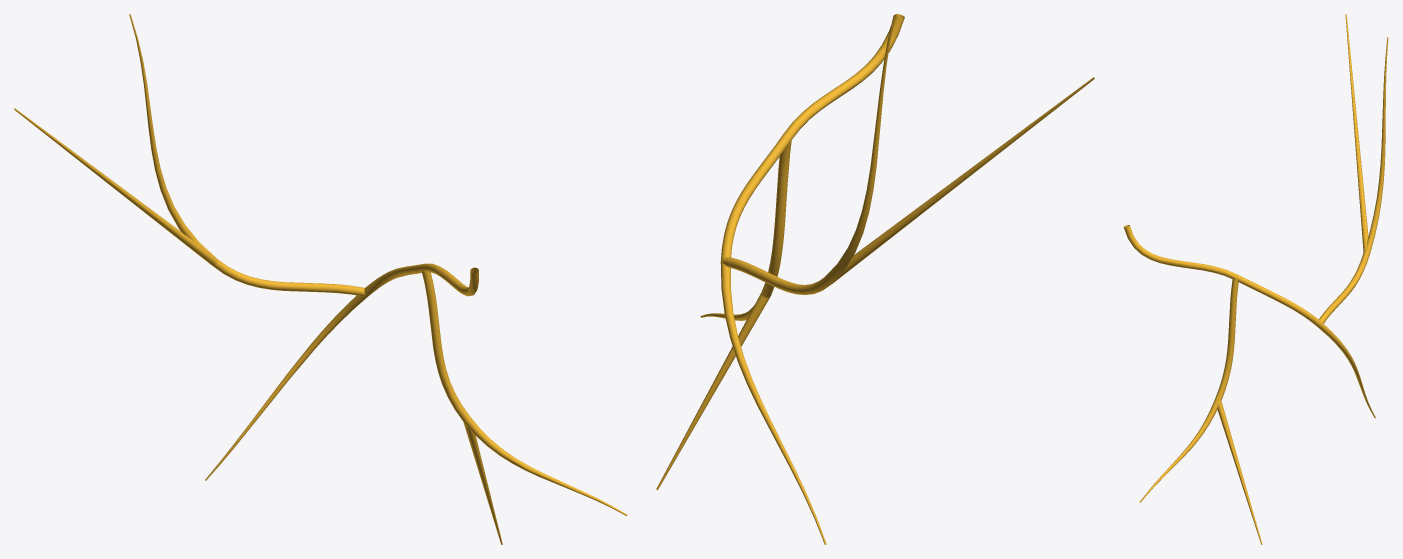
The model's file is nervoso-muscular-branches-of-radial-nerve-l.glb.
3 views of the same model, side by side, from view 1: azimuth 30°, elevation 25°; view 2: azimuth 150°, elevation 25°; view 3: azimuth 270°, elevation 25° (orthographic). The views are drawn at different scales.
Parts seen in each view (by area): view 1: Muscular branches of radial nerve.l; view 2: Muscular branches of radial nerve.l; view 3: Muscular branches of radial nerve.l.
Boxes of the visible parts, x1,y1,x2,y2 form: Muscular branches of radial nerve.l: (14, 14, 627, 544); Muscular branches of radial nerve.l: (656, 14, 1094, 544); Muscular branches of radial nerve.l: (1123, 14, 1388, 544).
Size of the model in its own units: 0.062 by 0.0671 by 0.04.
